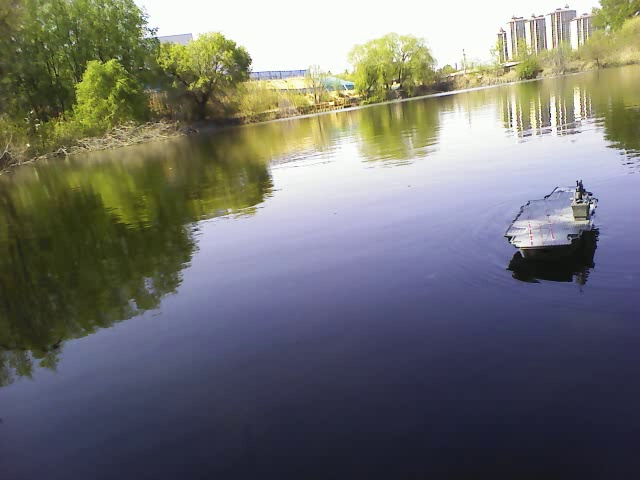aircraft_carrier: (505, 180, 596, 254)
